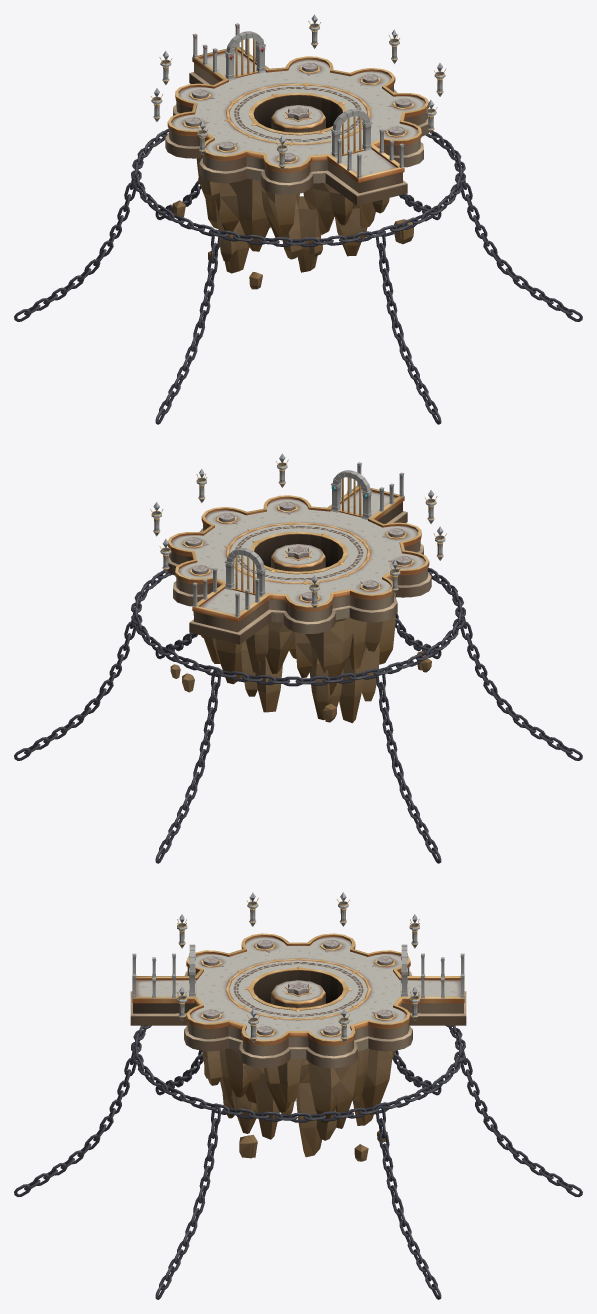
File: background.FBX
The picture shows the model from 3 angles, top to bottom: view 1: azimuth 30°, elevation 25°; view 2: azimuth 150°, elevation 25°; view 3: azimuth 270°, elevation 25°; orthographic projection.
Parts seen in each view (by area): view 1: Material #174, Object037, Object193, Object071; view 2: Material #174, Object037, Object071, Object193; view 3: Material #174, Object037, Object071, Object193.
Boxes of the visible parts, x1,y1,x2,y2 form: Material #174: [14, 47, 582, 424]; Object037: [172, 158, 405, 289]; Object193: [331, 108, 404, 178]; Object071: [192, 23, 265, 80]; Material #174: [14, 486, 582, 863]; Object037: [170, 597, 431, 723]; Object071: [192, 547, 265, 617]; Object193: [331, 462, 404, 519]; Material #174: [14, 933, 582, 1299]; Object037: [202, 1048, 395, 1161]; Object071: [401, 944, 464, 998]; Object193: [132, 944, 195, 998].
Bounding box in the file's own units: 5591 × 3133 × 6451.
